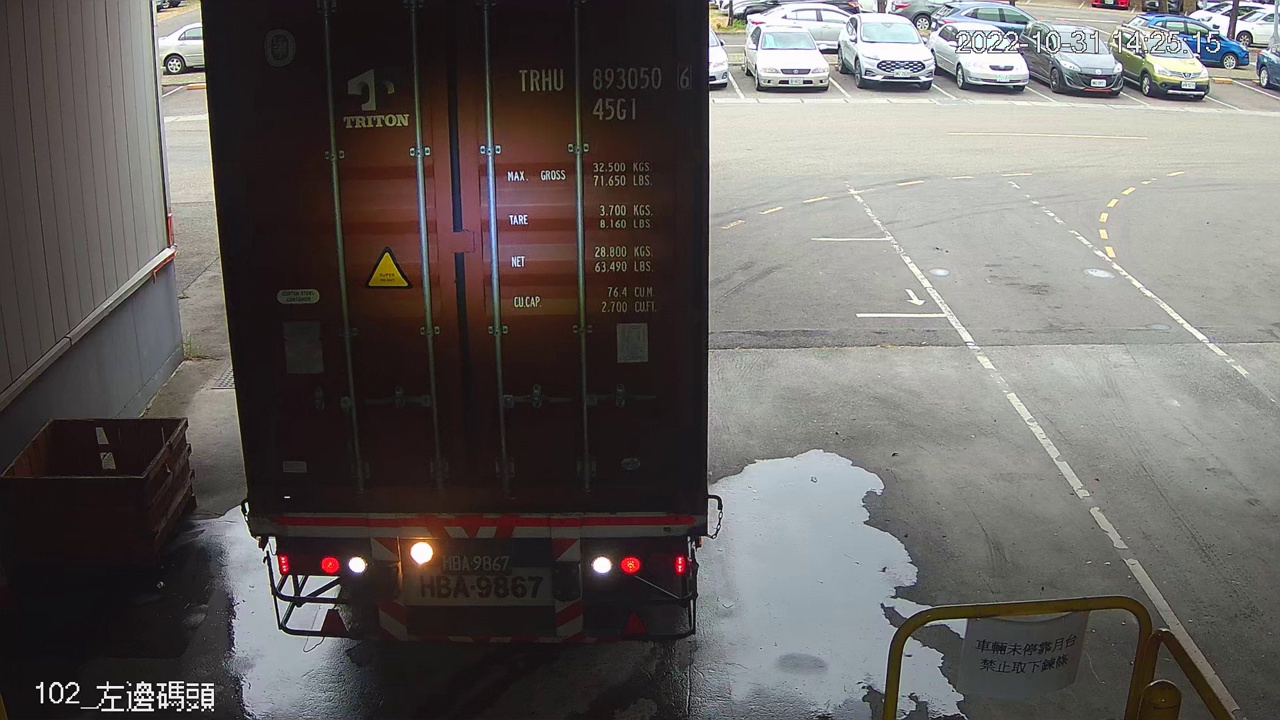container: (509, 57, 698, 129)
